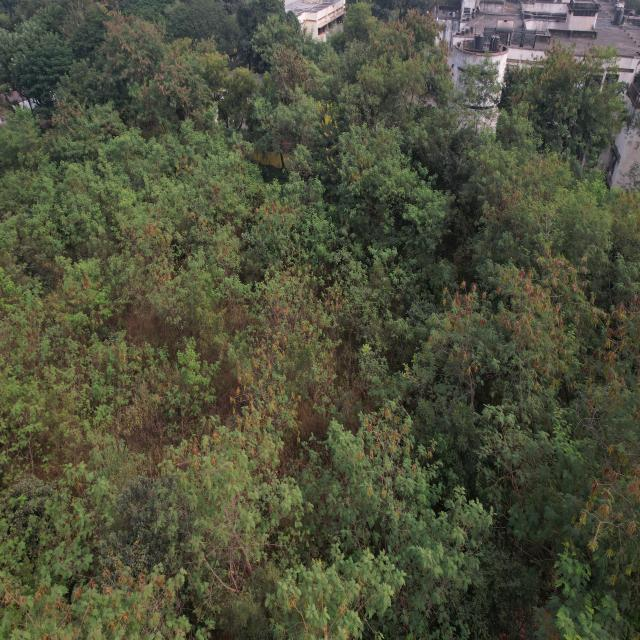Neem Tree: (417, 404, 474, 465), (230, 570, 272, 640)
